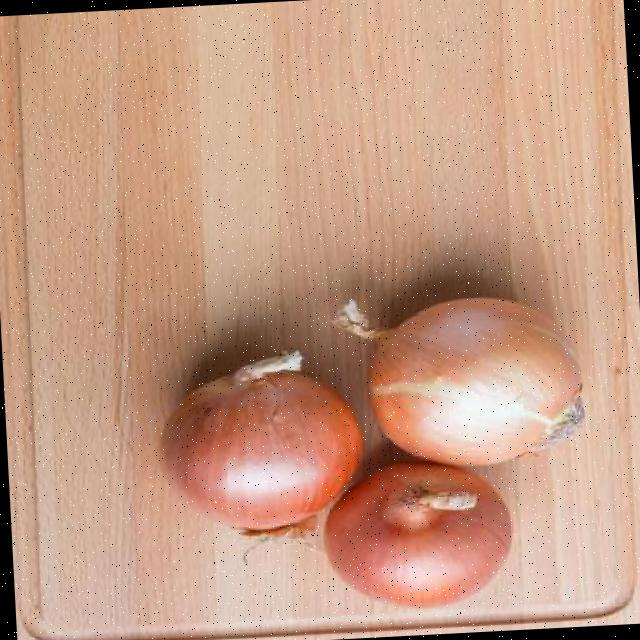Onion: (333, 298, 583, 467), (162, 352, 362, 534), (325, 464, 511, 608)
